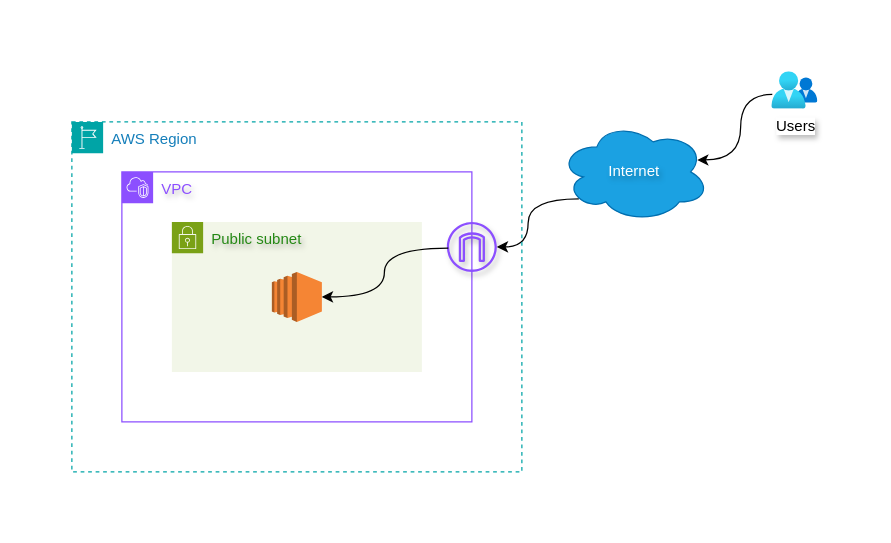
The diagram is 891 pixels wide and 543 high, and some of its shapes have lost their labels. The centre of each missing label's shape, as x and y in pixels:
EC2: (296,296)
Internet Gateway: (472,248)
